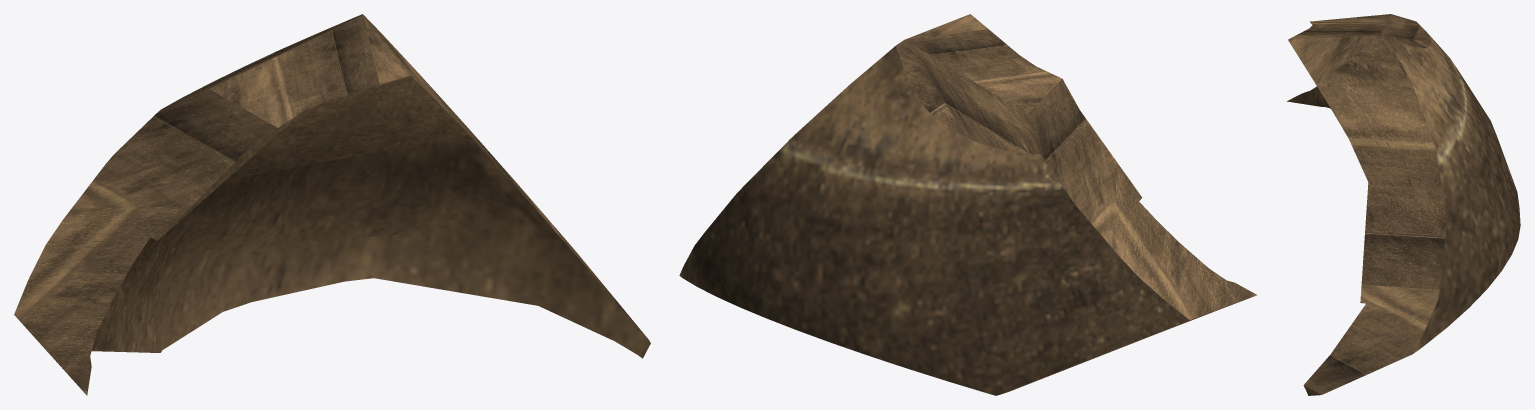
3 views of the same model, side by side, from view 1: azimuth 30°, elevation 25°; view 2: azimuth 150°, elevation 25°; view 3: azimuth 270°, elevation 25° (orthographic). The views are drawn at different scales.
Parts seen in each view (by area): view 1: Cylinder_cell.007; view 2: Cylinder_cell.007; view 3: Cylinder_cell.007.
Part boxes in pixels (x1,y1,x2,y2): Cylinder_cell.007: (14, 14, 650, 395); Cylinder_cell.007: (679, 14, 1257, 395); Cylinder_cell.007: (1287, 14, 1520, 395).
Size of the model in its own units: 1.31 by 0.7796 by 0.6007.
1 material, 1 textured.
